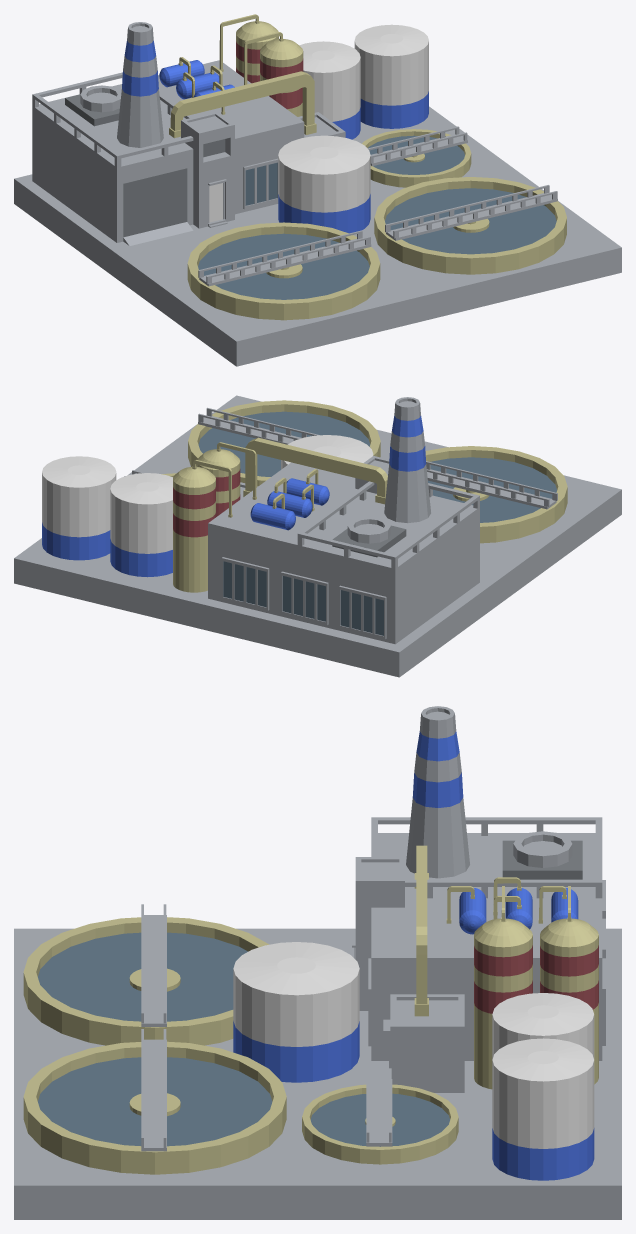
Rendered from water_plant.fbx.
The picture shows the model from 3 angles, top to bottom: view 1: azimuth 30°, elevation 25°; view 2: azimuth 150°, elevation 25°; view 3: azimuth 270°, elevation 25°; orthographic projection. The views are drawn at different scales.
Visible parts, largest first — view 1: Water Plant; view 2: Water Plant; view 3: Water Plant.
Part boxes in pixels (left/top/right/bottom): Water Plant: left=14, top=14, right=621, bottom=366; Water Plant: left=14, top=395, right=621, bottom=677; Water Plant: left=14, top=706, right=621, bottom=1219.
Bounding box in the file's own units: 294 × 154 × 294.
